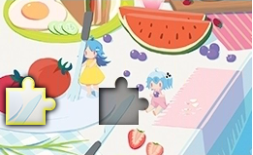gap: (99, 78, 150, 125)
